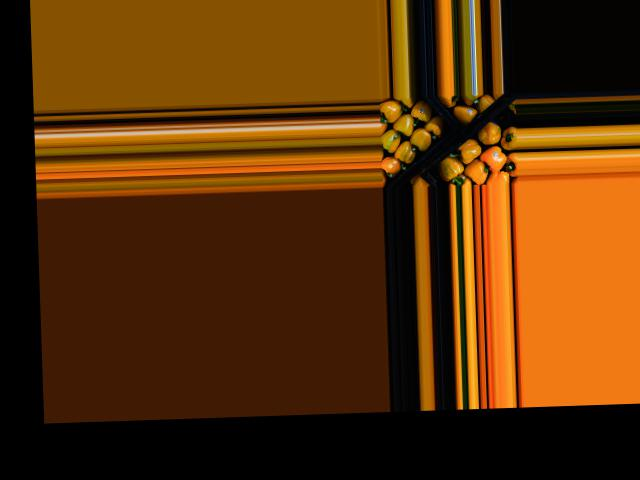bell_pepper: (379, 96, 407, 120)
